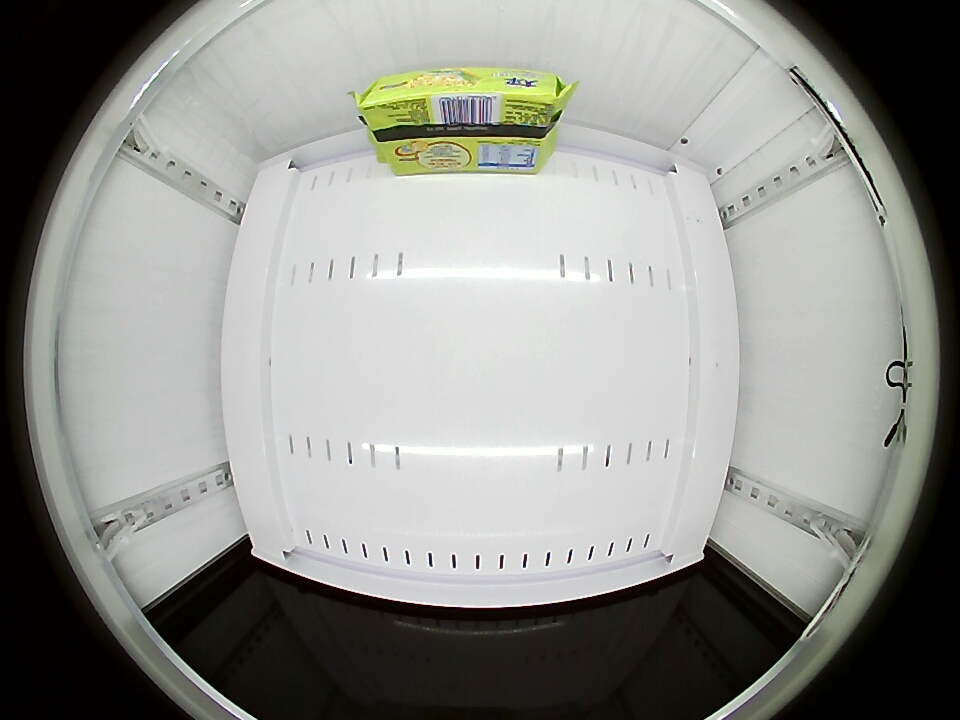taipingshuda: (358, 67, 569, 146)
